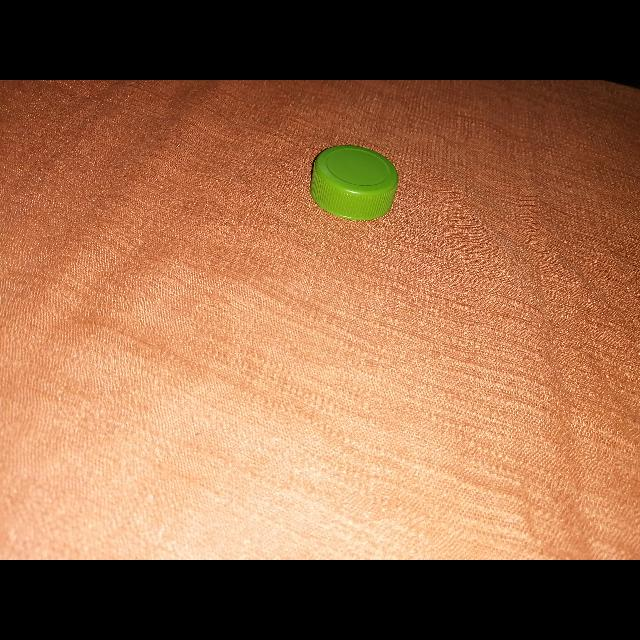plastic_bottle_cap: (310, 145, 398, 221)
